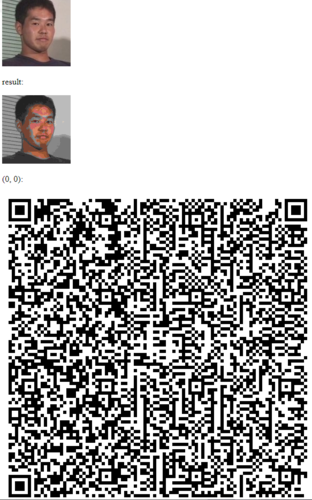QRCode: (3, 189, 312, 500)
